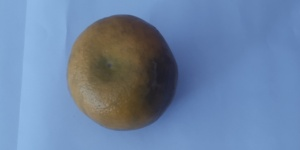BAD: (67, 11, 180, 132)
